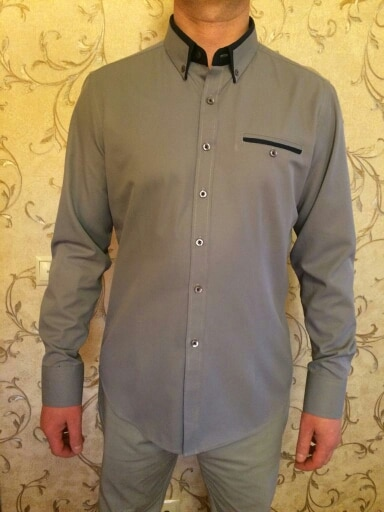shirts: (40, 20, 359, 446)
